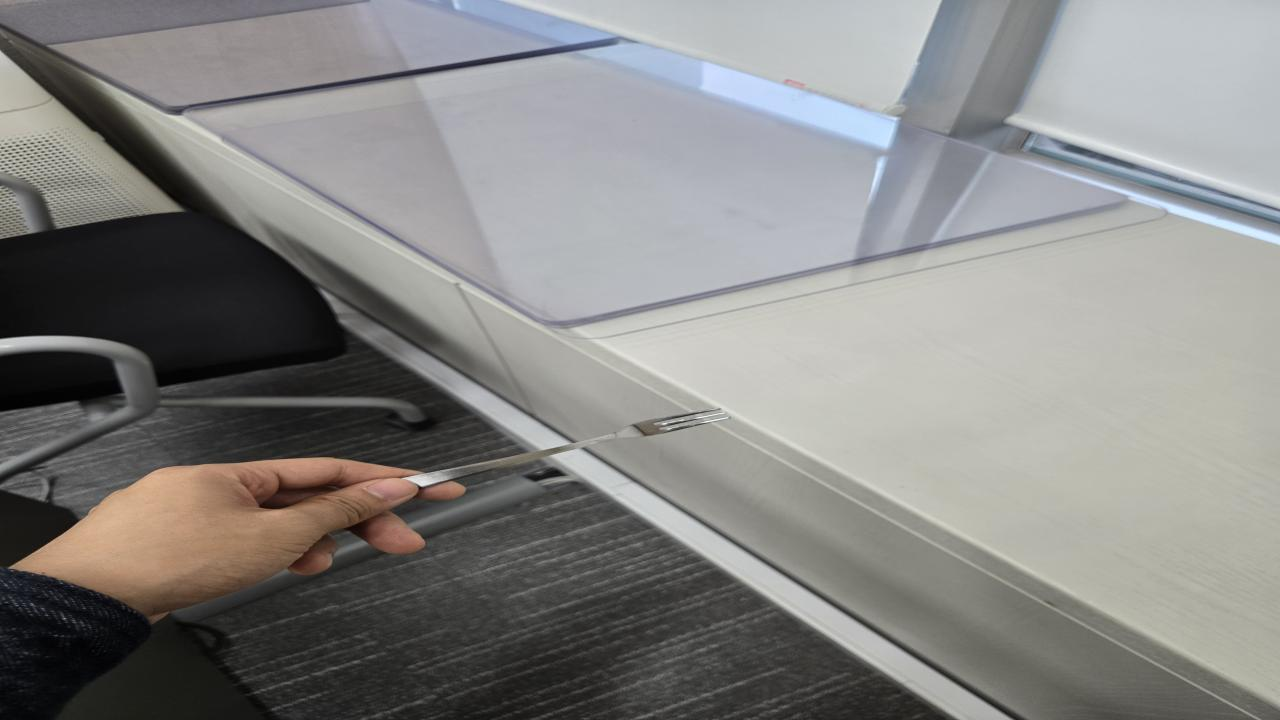fork: (406, 407, 739, 487)
